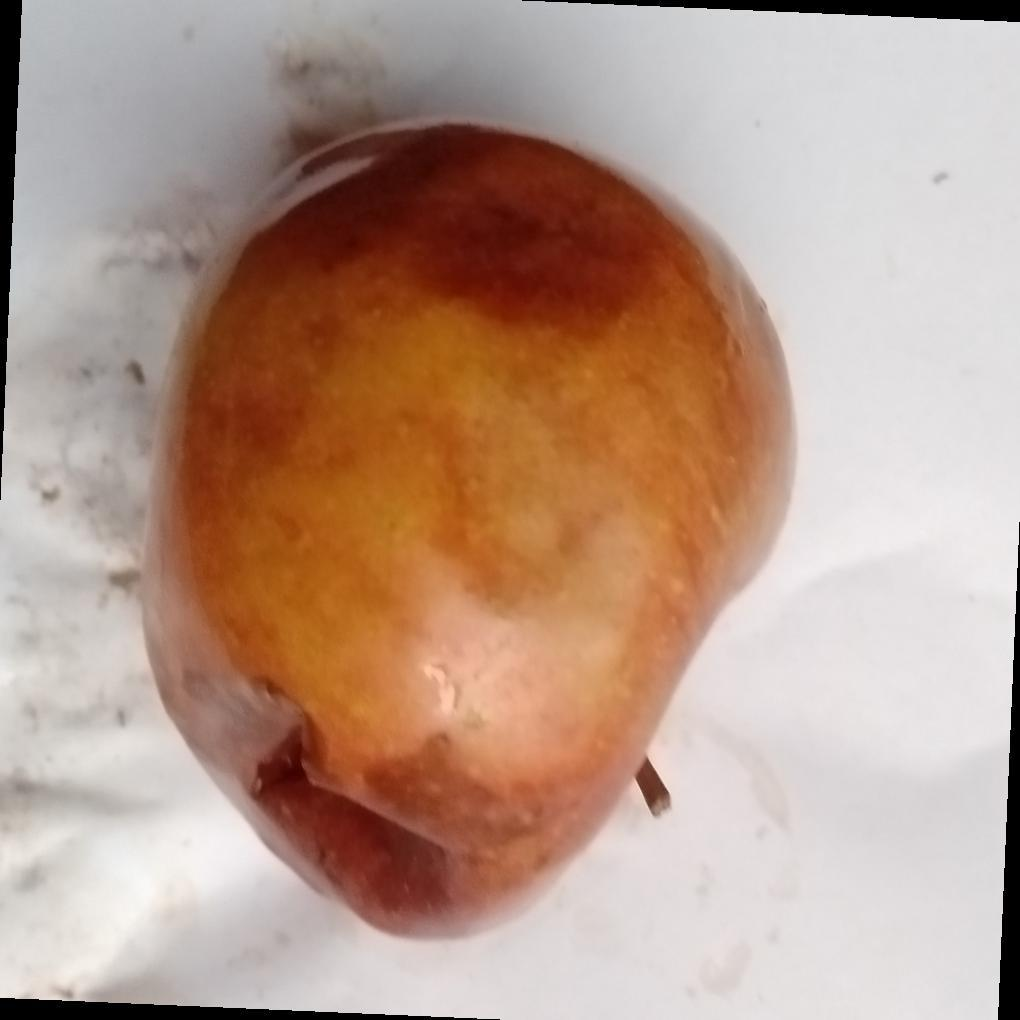FreshOrange: (138, 120, 798, 945)
